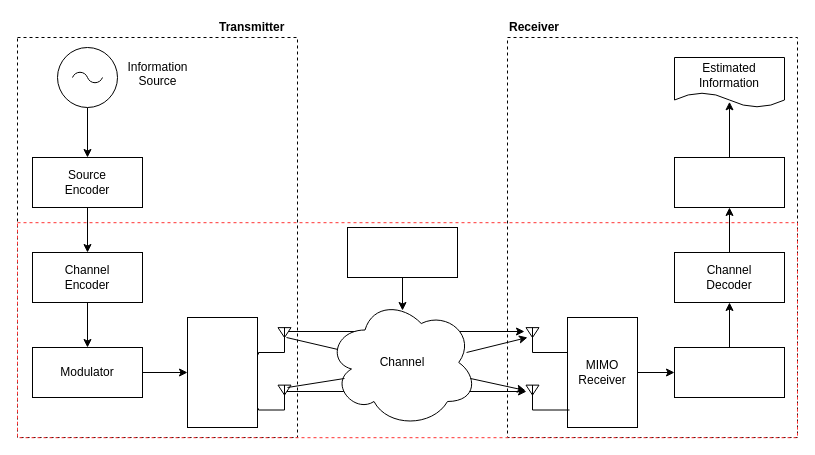
This 815x455 diagram has some shape labels left out. The shapes that lost their labels are listed below. From the top down, each one's centre as x and y in pixels, then its label:
At (x=729, y=182): "Source Decoder".
At (x=402, y=252): "Noise + Fading".
At (x=222, y=372): "MIMO Transmitter".
At (x=729, y=372): "Demodulator".
